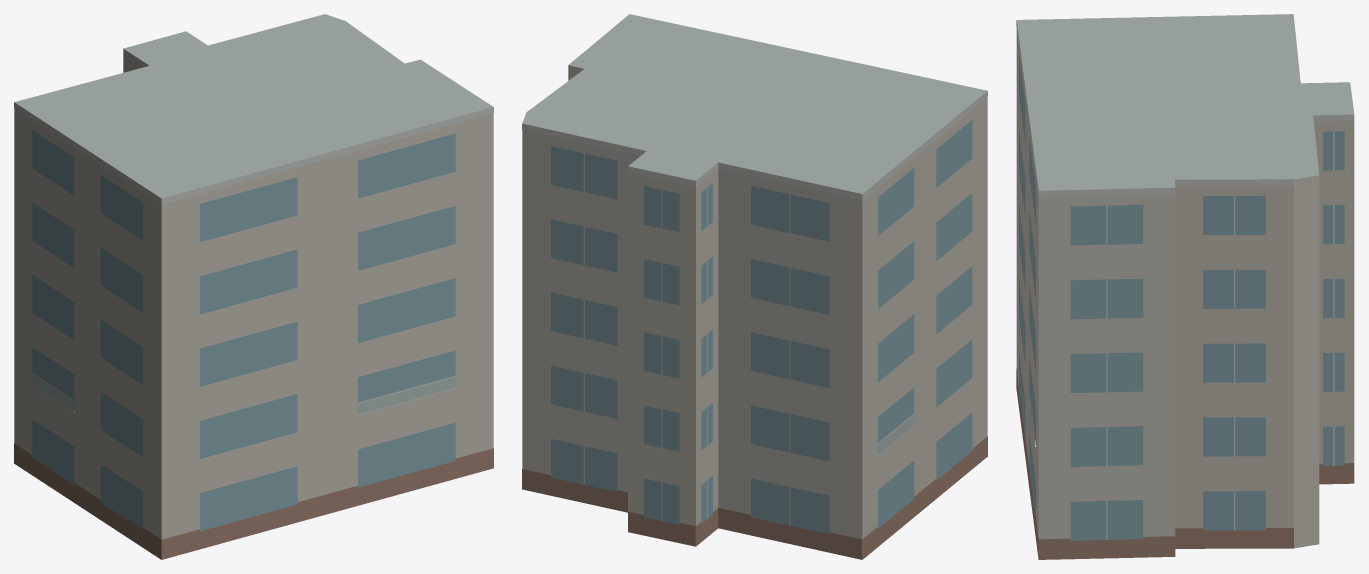
Rendered from survey-upis-32919866.glb.
3 views of the same model, side by side, from view 1: azimuth 30°, elevation 25°; view 2: azimuth 150°, elevation 25°; view 3: azimuth 270°, elevation 25° (orthographic). The views are drawn at different scales.
Visible parts, largest first — view 1: survey-upis-32919866.tmp; view 2: survey-upis-32919866.tmp; view 3: survey-upis-32919866.tmp.
Part boxes in pixels (<box>): survey-upis-32919866.tmp: <box>14,14,493,559</box>; survey-upis-32919866.tmp: <box>522,14,987,559</box>; survey-upis-32919866.tmp: <box>1016,14,1354,559</box>.
Bounding box in the file's own units: 14.91 × 14.5 × 12.04.
